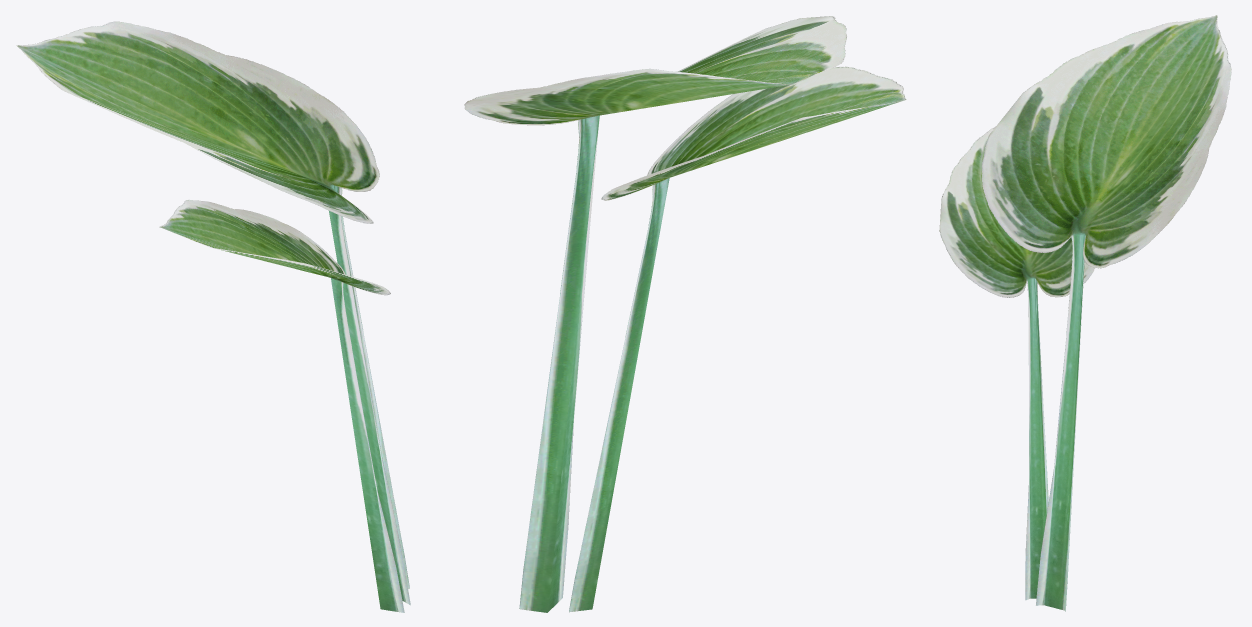
The model's file is plant_small_wg_05E3.fbx.
3 views of the same model, side by side, from view 1: azimuth 30°, elevation 25°; view 2: azimuth 150°, elevation 25°; view 3: azimuth 270°, elevation 25° (orthographic). The views are drawn at different scales.
Parts seen in each view (by area): view 1: plant_small_wg_05E3; view 2: plant_small_wg_05E3; view 3: plant_small_wg_05E3.
Part boxes in pixels (x1,y1,x2,y2): plant_small_wg_05E3: (16, 21, 410, 612); plant_small_wg_05E3: (464, 16, 906, 612); plant_small_wg_05E3: (939, 15, 1231, 611).
Size of the model in its own units: 22.87 by 39.25 by 22.76.
